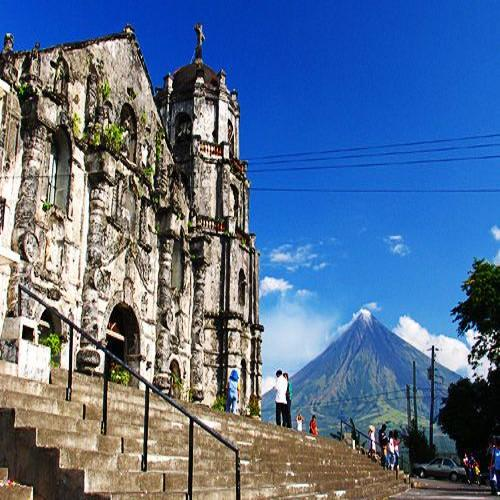Daraga Church: (1, 8, 265, 422)
